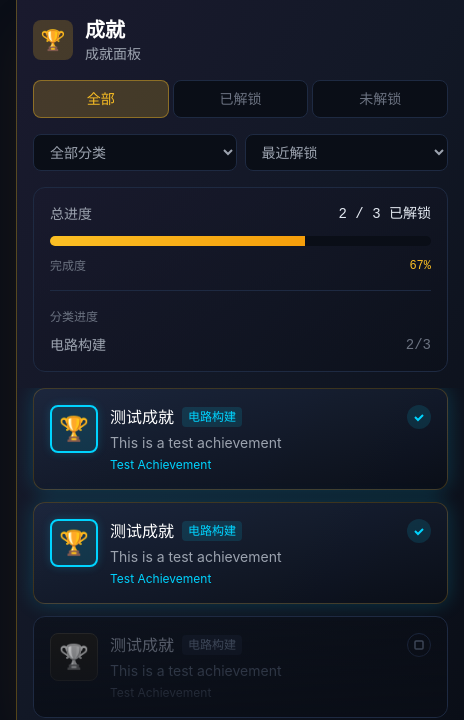
AchievementPanel Component › AC-181-002: AchievementPanel filtering works › "Locked" tab shows only locked achievements
# Click locked tab
Click the button with test id "achievement-tab-locked".
click(380, 99)  # box [312, 80, 448, 118]
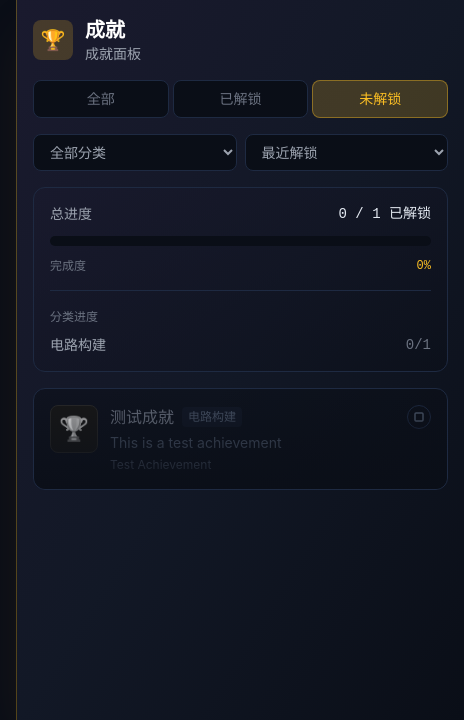
Expected: the element with test id "achievement-badge-a2" is shown, [33, 388, 448, 490]
Result: the element with test id "achievement-badge-a1" is gone
Result: the element with test id "achievement-badge-a3" is gone
